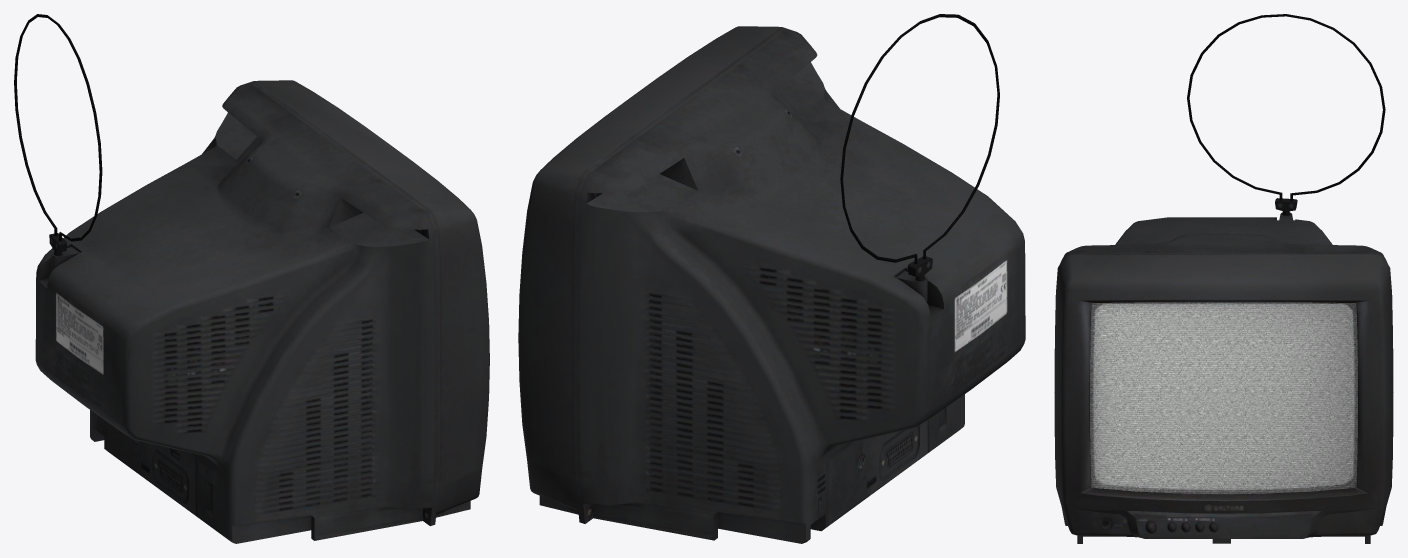
File: tv__small.glb
3 renders of one model, left to right at view 1: azimuth 30°, elevation 25°; view 2: azimuth 150°, elevation 25°; view 3: azimuth 270°, elevation 25°, orthographic. The views are drawn at different scales.
Visible parts, largest first — view 1: tv_small_reference.smd; view 2: tv_small_reference.smd; view 3: tv_small_reference.smd.
Boxes of the visible parts, x1=… form: tv_small_reference.smd: x1=14, y1=14, x2=489, y2=543; tv_small_reference.smd: x1=518, y1=14, x2=1025, y2=543; tv_small_reference.smd: x1=1054, y1=14, x2=1393, y2=543.
Bounding box in the file's own units: 0.3755 × 0.5132 × 0.3879.
2 materials, 2 textured.
